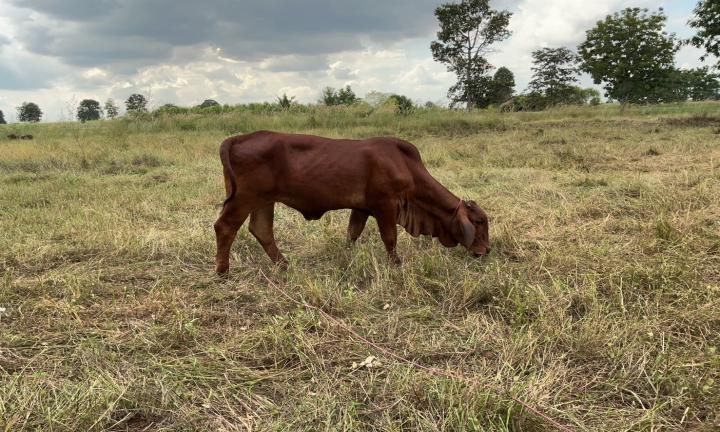Brahman: (214, 131, 490, 272)
